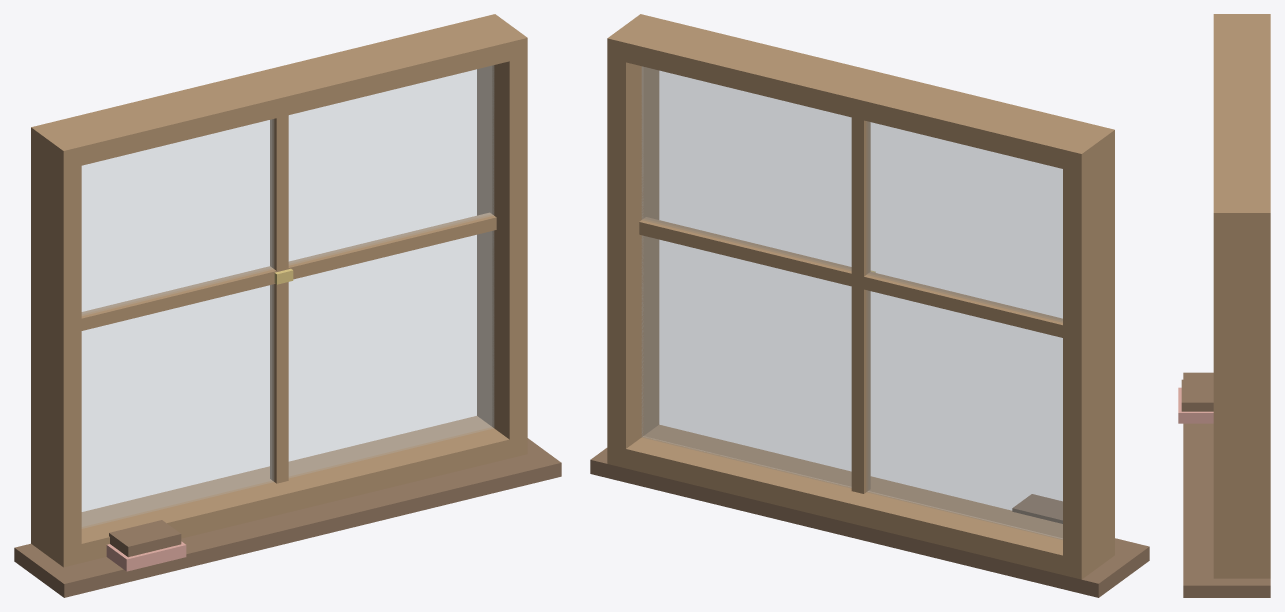
File: Window.glb
3 views of the same model, side by side, from view 1: azimuth 30°, elevation 25°; view 2: azimuth 150°, elevation 25°; view 3: azimuth 270°, elevation 25° (orthographic). The views are drawn at different scales.
Parts seen in each view (by area): view 1: Window; view 2: Window; view 3: Window.
Boxes of the visible parts, left/top/right/bottom form: Window: left=14, top=14, right=561, bottom=597; Window: left=590, top=14, right=1149, bottom=597; Window: left=1178, top=14, right=1270, bottom=597.
Size of the model in its own units: 1.5 by 1.24 by 0.275.
